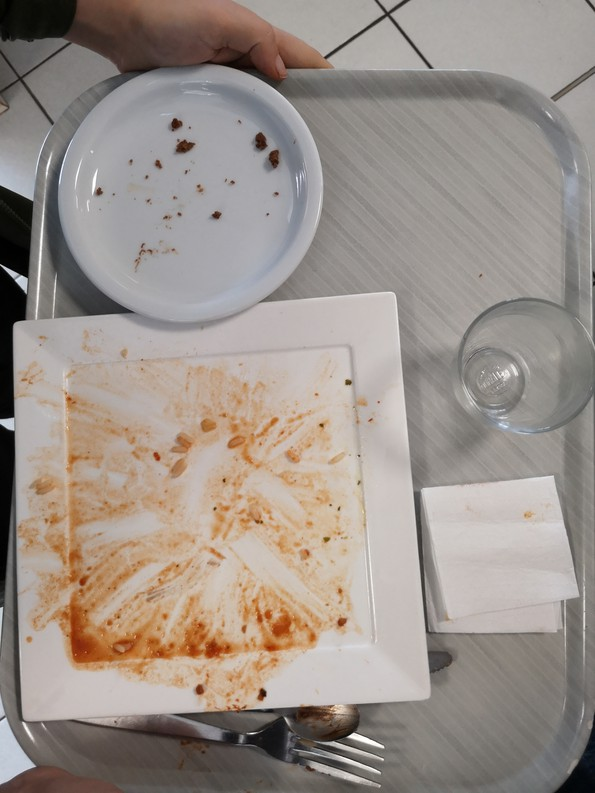cup: (440, 285, 595, 449)
cutlery: (10, 694, 443, 784)
trash: (412, 476, 586, 656)
